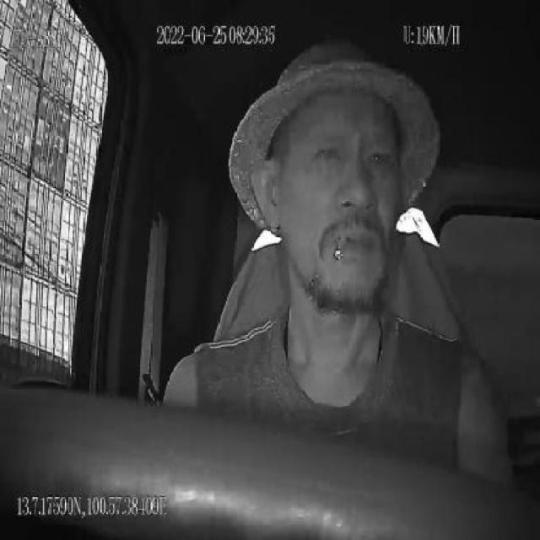smoking: (333, 232, 347, 262)
